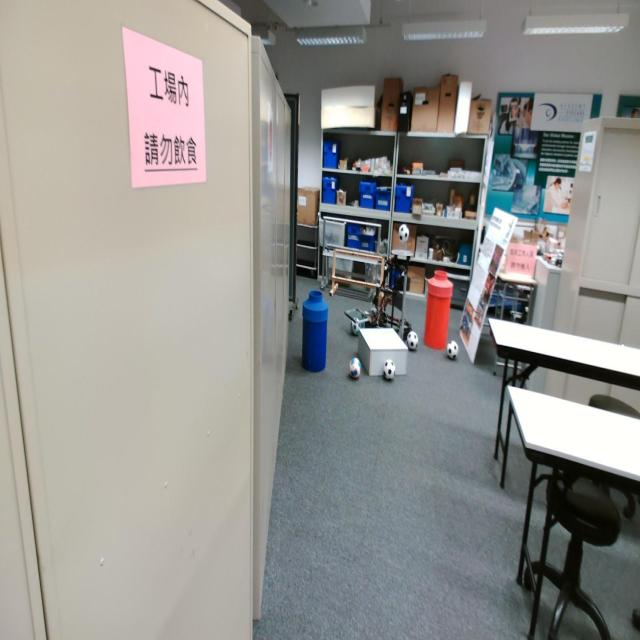Soccer Ball: (348, 356, 362, 379), (383, 360, 395, 378), (407, 332, 418, 349), (447, 341, 458, 358), (399, 224, 409, 242)
